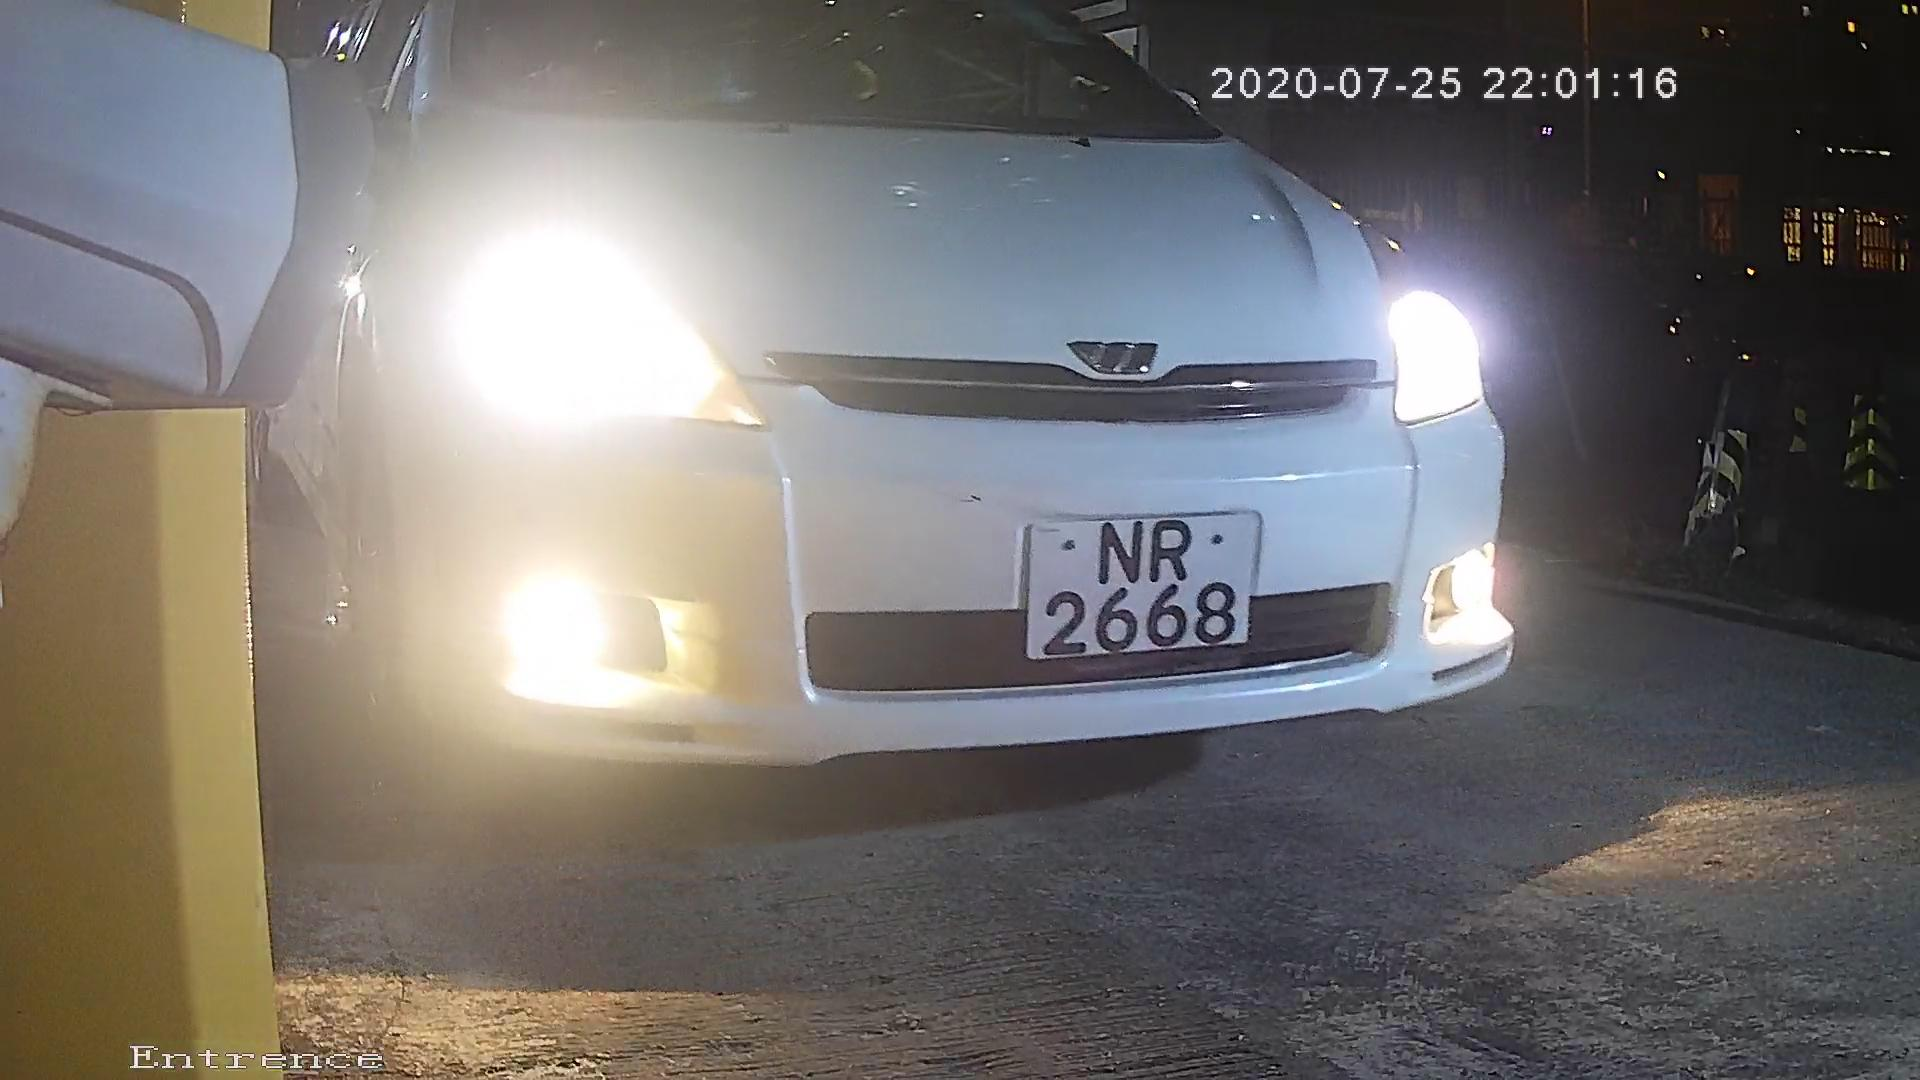License Plate: (1003, 502, 1269, 680)
